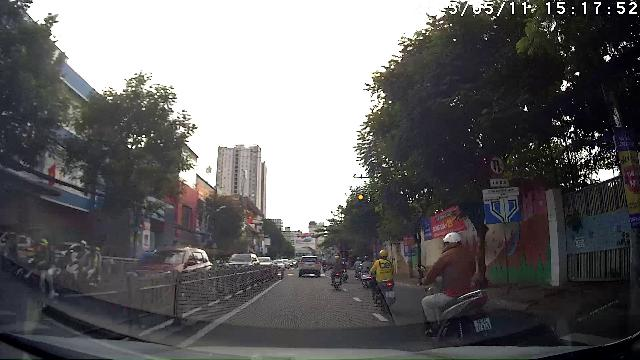124b-cam-oto-quay-dau-xe: (488, 154, 506, 176)
